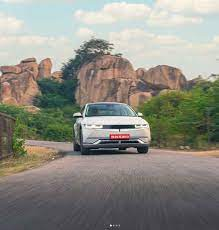Honda Ioniq: (70, 98, 152, 155)
